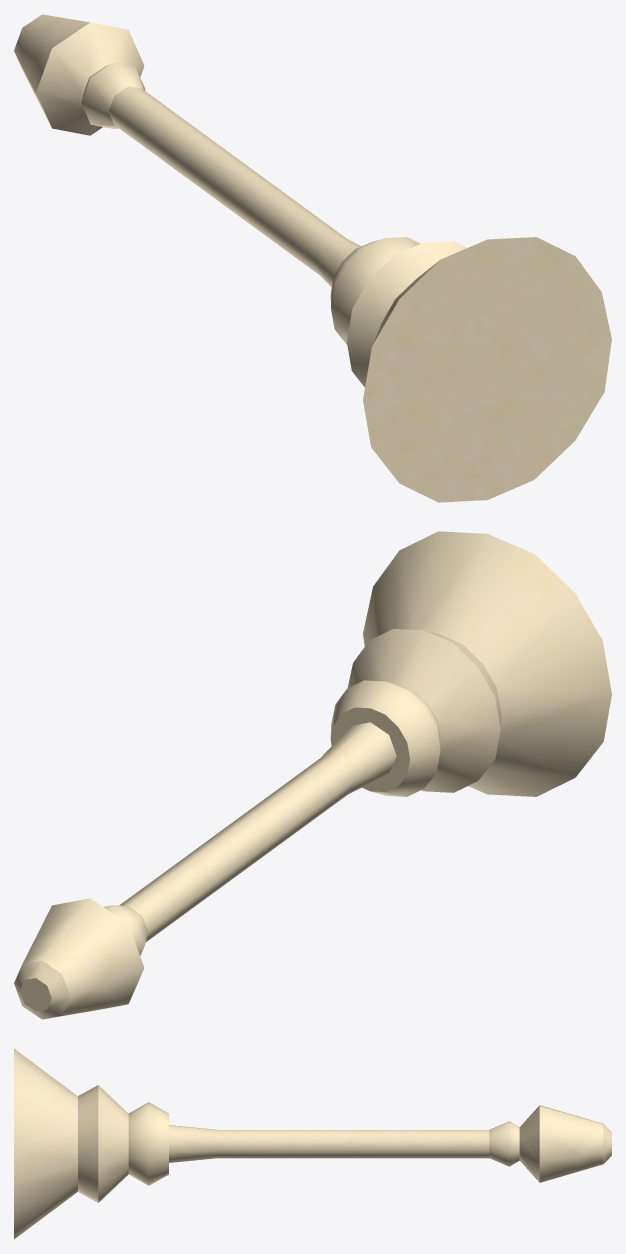
File: CastleFlag.obj
3 renders of one model, top to bottom at view 1: azimuth 30°, elevation 25°; view 2: azimuth 150°, elevation 25°; view 3: azimuth 270°, elevation 25°, orthographic. The views are drawn at different scales.
Visible parts, largest first — view 1: polySurface4596__GoldDeco01; view 2: polySurface4596__GoldDeco01; view 3: polySurface4596__GoldDeco01.
Boxes of the visible parts, box(x1,y1,x2,y2) form: polySurface4596__GoldDeco01: box(14, 14, 611, 502); polySurface4596__GoldDeco01: box(14, 531, 611, 1019); polySurface4596__GoldDeco01: box(14, 1048, 611, 1239).
Size of the model in its own units: 189 by 189 by 594.
Materials: 2 (1 with a texture image).
